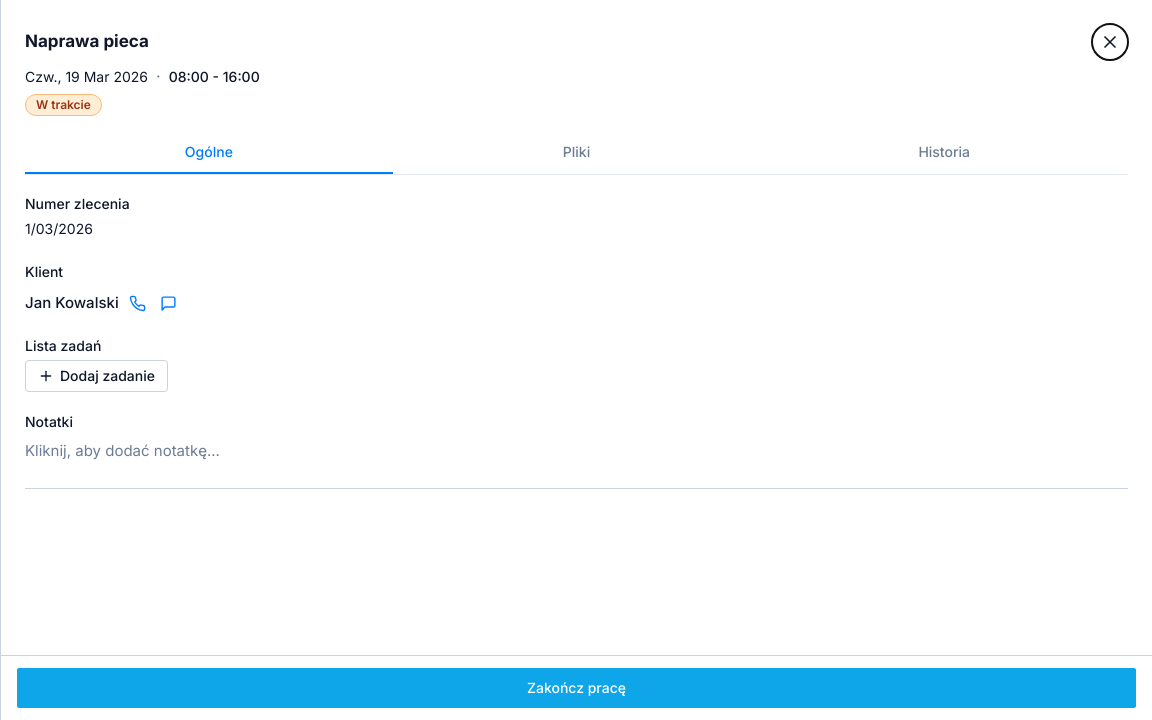
it: CalendarItemDetailsDrawer — admin status controls › opens end work dialog when "Zakończ pracę" clicked (employee view)
This screenshot has width=1152, height=720.
Click the button "Zakończ pracę". click: {"x": 576, "y": 688}
box: top-left (17, 668), bottom-right (1136, 708)
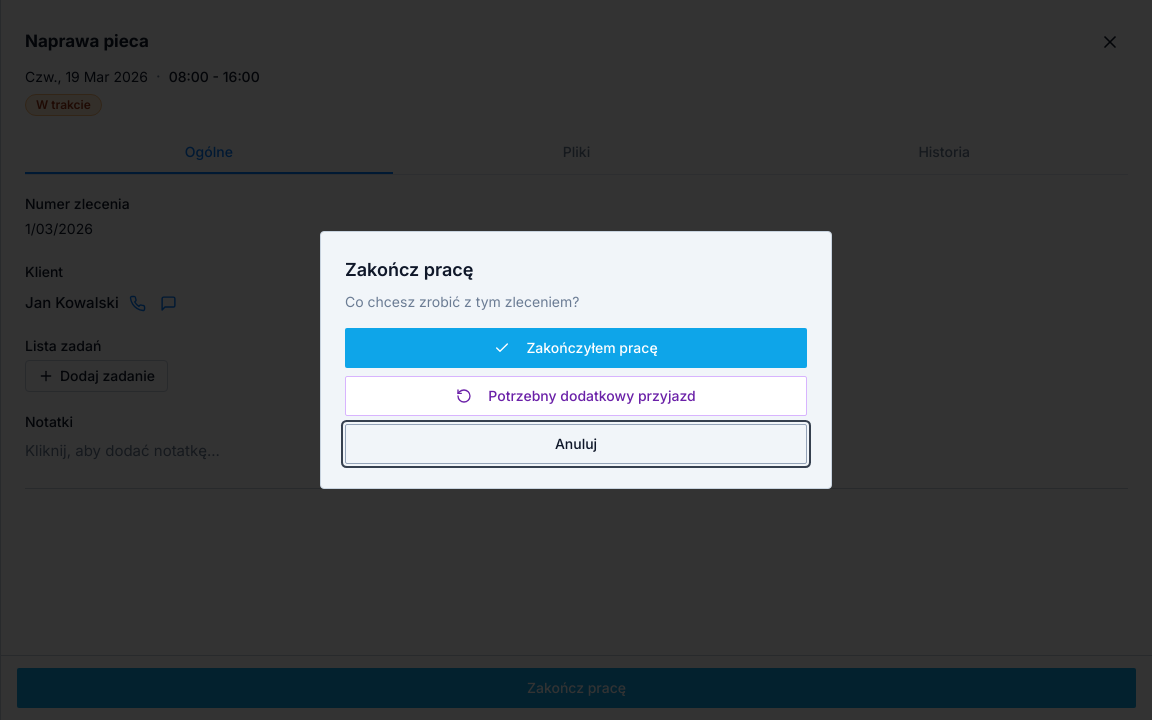
Now the button "Zakończyłem pracę" is shown, box top-left (345, 328), bottom-right (807, 368)
Now the button "Potrzebny dodatkowy przyjazd" is shown, box top-left (345, 376), bottom-right (807, 416)
Now the button "Anuluj" is shown, box top-left (345, 424), bottom-right (807, 464)
